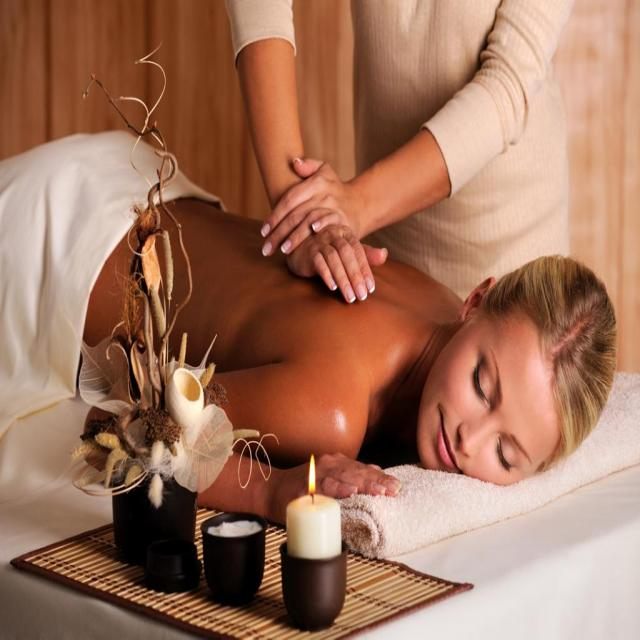nomask: (418, 345, 552, 488)
